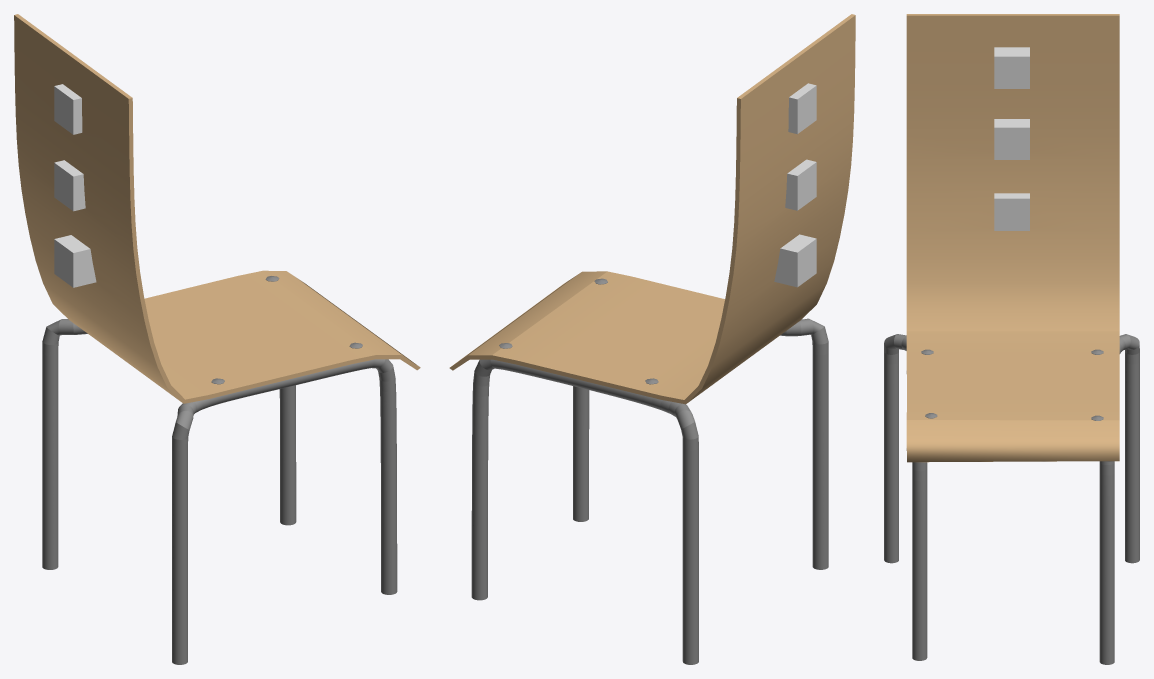
File: chaise_bonne version.fbx
The picture shows the model from 3 angles, left to right: view 1: azimuth 30°, elevation 25°; view 2: azimuth 150°, elevation 25°; view 3: azimuth 270°, elevation 25°; orthographic projection. The views are drawn at different scales.
Visible parts, largest first — view 1: Cube, Cylinder.002, Cylinder, trou-dossier; view 2: Cube, Cylinder, Cylinder.002, trou-dossier; view 3: Cube, Cylinder, Cylinder.002, trou-dossier.
Boxes of the visible parts, bbox=[...] form: Cube: bbox=[14, 14, 420, 403]; Cylinder.002: bbox=[172, 359, 397, 664]; Cylinder: bbox=[42, 319, 296, 569]; trou-dossier: bbox=[54, 84, 96, 287]; Cube: bbox=[449, 14, 855, 404]; Cylinder: bbox=[471, 359, 698, 664]; Cylinder.002: bbox=[573, 318, 828, 569]; trou-dossier: bbox=[774, 83, 816, 287]; Cube: bbox=[906, 14, 1119, 462]; Cylinder: bbox=[1099, 334, 1139, 664]; Cylinder.002: bbox=[884, 334, 927, 660]; trou-dossier: bbox=[994, 47, 1029, 230].
Bounding box in the file's own units: 374 × 675 × 297.
